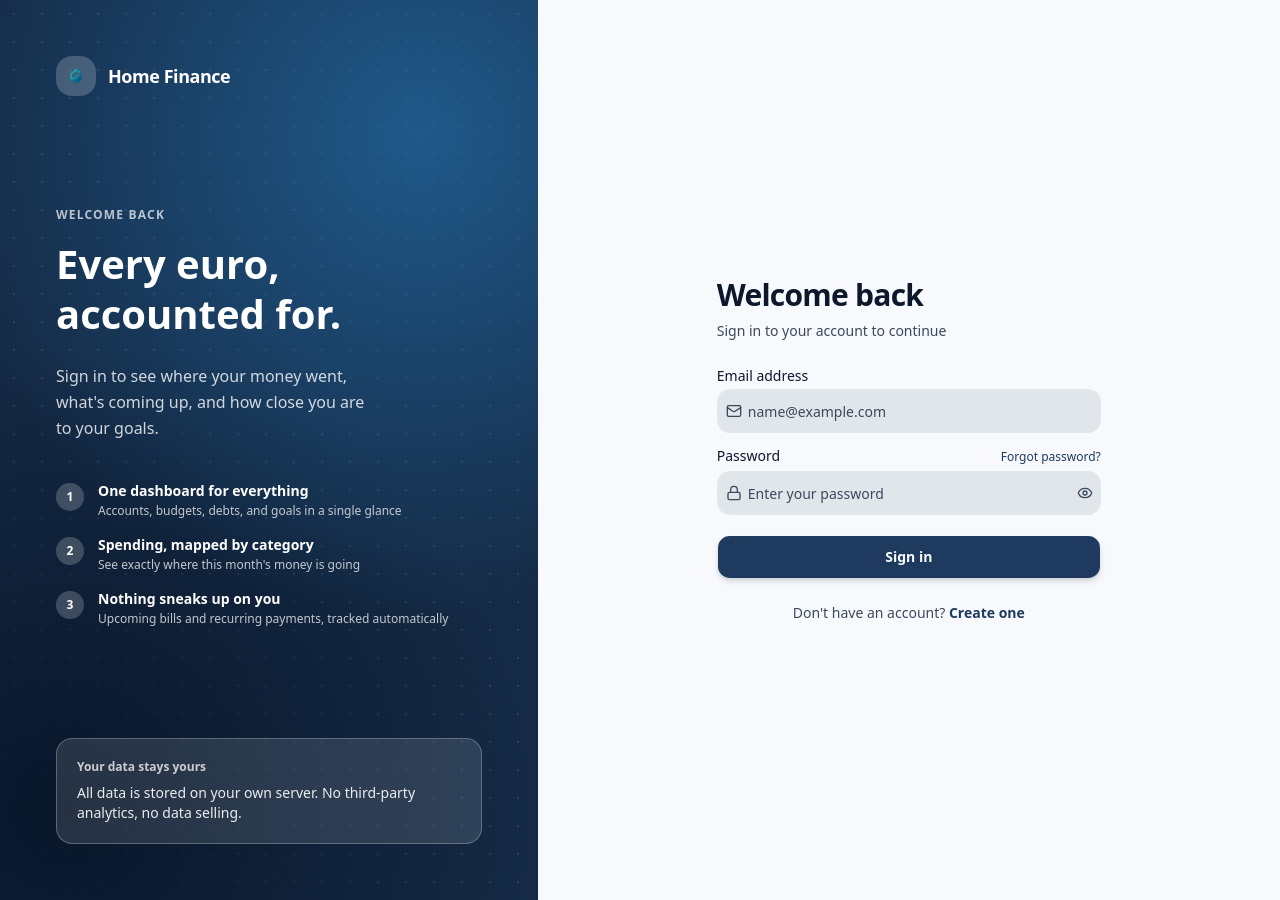
Test: LoginPage › shows the server error message on failed login
Step 1. Type "jane@example.com" into the field labelled "Email address" → [921, 411], box [742,395,1100,427]
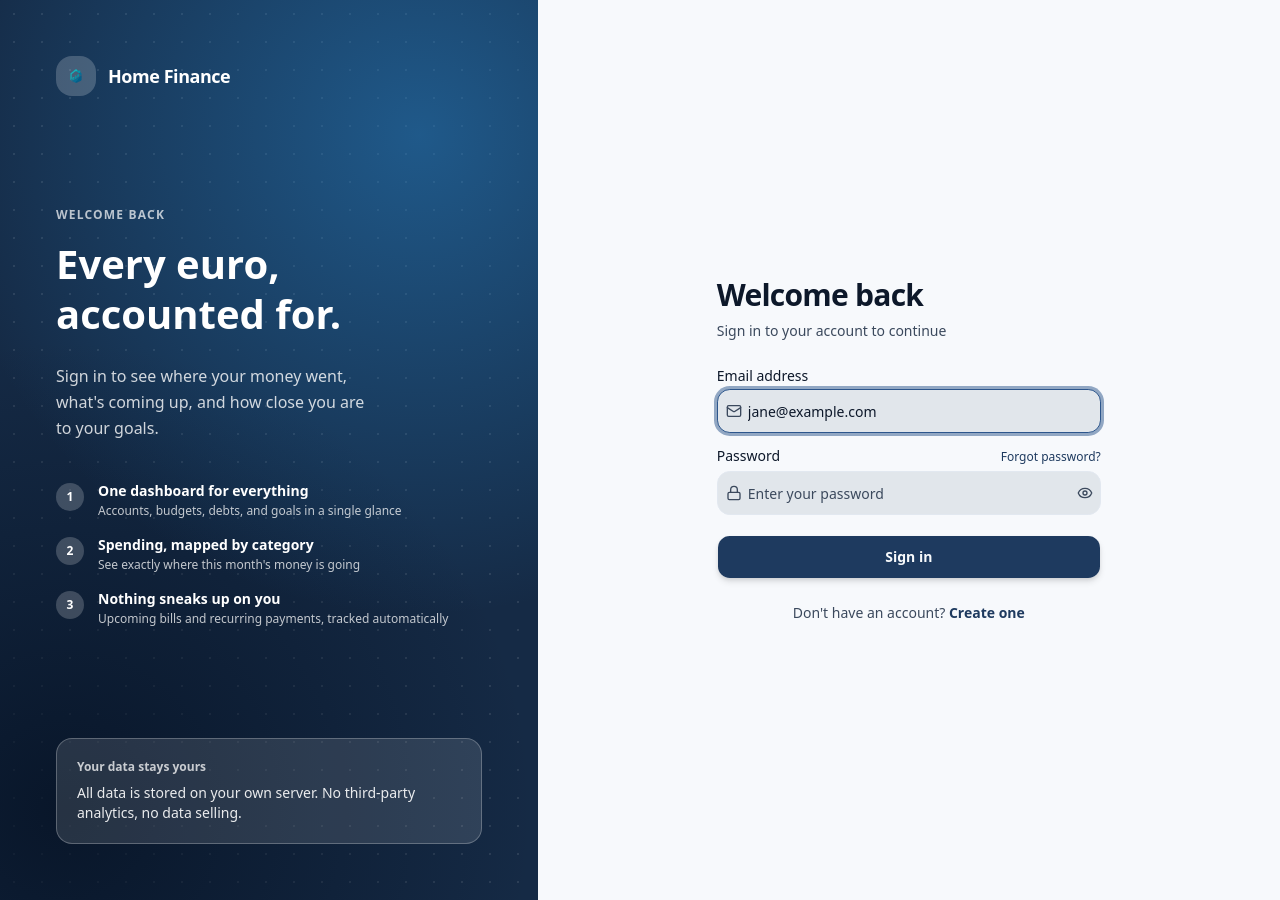
Step 2. Type "wrong" into the password field labelled "Password" → [907, 493], box [742,477,1073,509]
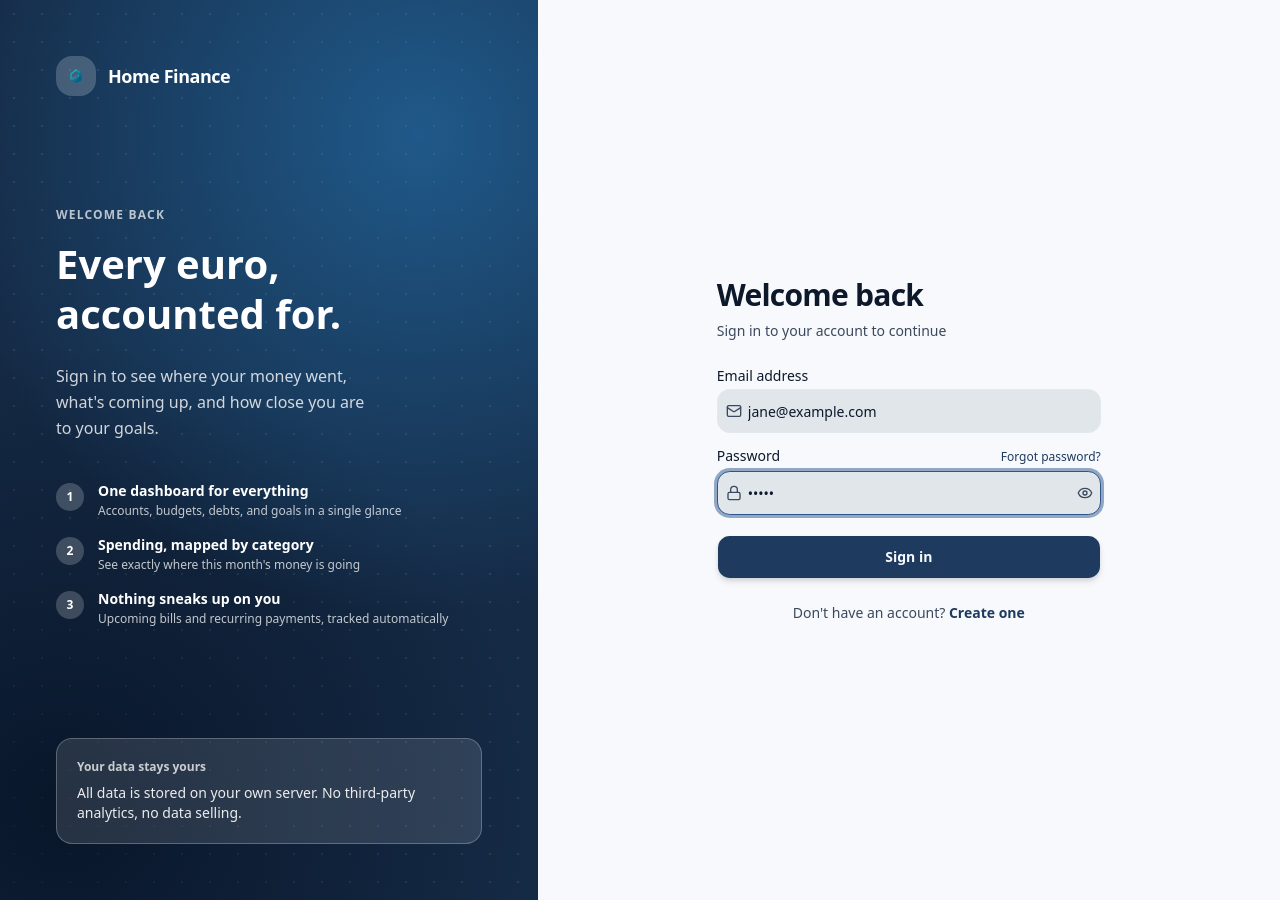
Step 3. Click the button "Sign in" → [909, 557], box [717,535,1101,579]
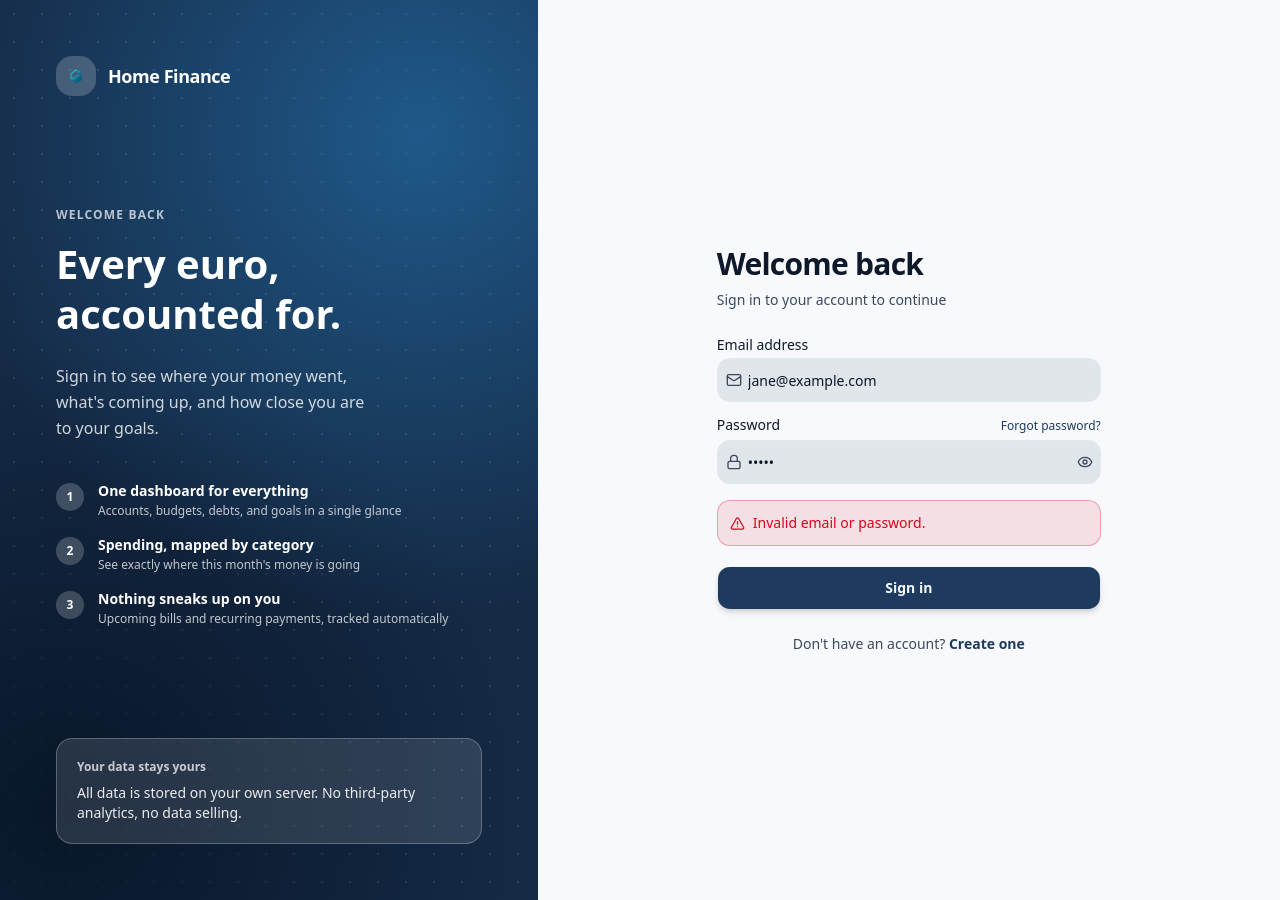
Result: the text "Invalid email or password." is shown at [717,500,1101,546]
